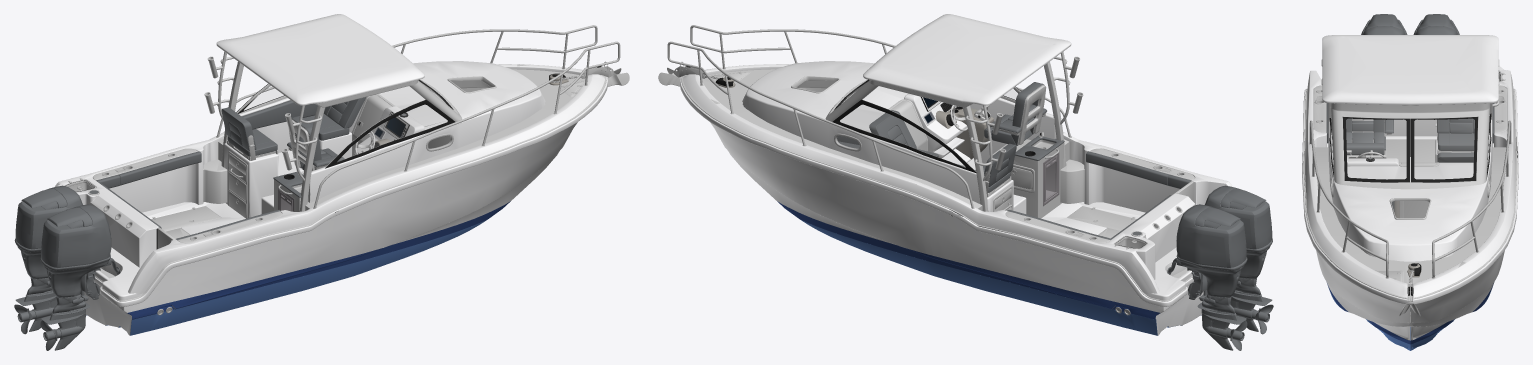
Rendered from cabinato.glb.
3 views of the same model, side by side, from view 1: azimuth 30°, elevation 25°; view 2: azimuth 150°, elevation 25°; view 3: azimuth 270°, elevation 25° (orthographic). The views are drawn at different scales.
Visible parts, largest first — view 1: deck, deco_smooth_032textures, topside_starboard, hardtop, cabin, outboard, deco_detailed_032textures_03202, bottom, deco_glass, boot, deco_detailed_032textures_032, transom; view 2: deco_smooth_032textures, deck, topside_port, cabin, hardtop, outboard, deco_detailed_032textures_03202, bottom, deco_glass, boot, deco_detailed_032textures_032, transom; view 3: deco_smooth_032textures, hardtop, cabin, deck, deco_glass, deco_detailed_032textures_03202, topside_starboard, topside_port, outboard, boot, bottom.
Boxes of the visible parts, x1,y1,x2,y2 form: deck: [55, 64, 607, 306]; deco_smooth_032textures: [65, 25, 629, 315]; topside_starboard: [124, 122, 577, 312]; hardtop: [216, 14, 424, 107]; cabin: [239, 61, 545, 202]; outboard: [14, 185, 120, 350]; deco_detailed_032textures_03202: [96, 97, 366, 240]; bottom: [86, 219, 487, 335]; deco_glass: [65, 80, 489, 210]; boot: [127, 201, 510, 319]; deco_detailed_032textures_032: [16, 113, 406, 273]; transom: [84, 285, 175, 335]; deco_smooth_032textures: [658, 25, 1194, 315]; deck: [680, 64, 1232, 306]; topside_port: [710, 122, 1163, 312]; cabin: [742, 61, 1054, 204]; hardtop: [863, 14, 1071, 107]; outboard: [1167, 185, 1273, 350]; deco_detailed_032textures_03202: [837, 82, 1191, 239]; bottom: [800, 219, 1201, 335]; deco_glass: [798, 80, 1147, 247]; boot: [777, 201, 1160, 319]; deco_detailed_032textures_032: [1132, 198, 1271, 273]; transom: [1112, 285, 1203, 335]; deco_smooth_032textures: [1303, 59, 1517, 321]; hardtop: [1322, 35, 1498, 105]; cabin: [1328, 119, 1492, 261]; deck: [1302, 66, 1518, 340]; deco_glass: [1330, 71, 1501, 217]; deco_detailed_032textures_03202: [1326, 103, 1494, 311]; topside_starboard: [1316, 250, 1410, 340]; topside_port: [1410, 250, 1504, 340]; outboard: [1361, 14, 1459, 34]; boot: [1327, 284, 1493, 344]; bottom: [1329, 290, 1491, 350].
Bounding box in the file's own units: 9 × 3.17 × 2.78.
8 materials, 1 textured.
